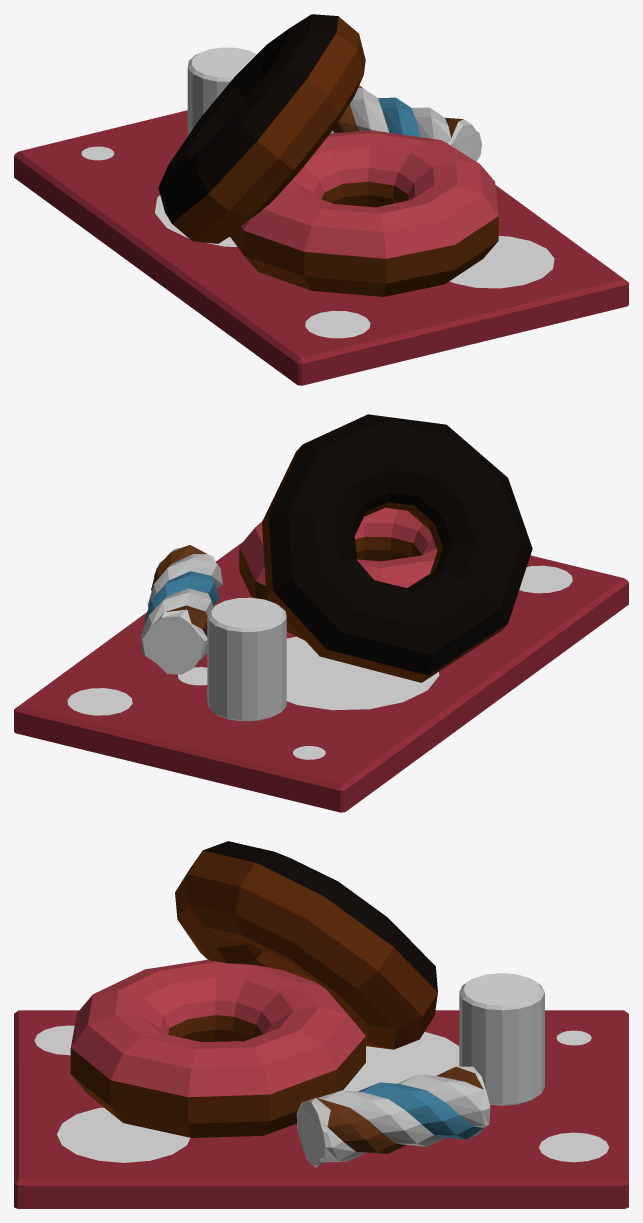
The model's file is W_O_Playground_CandySymbolic_002_L1.fbx.
3 views of the same model, one above another, from view 1: azimuth 30°, elevation 25°; view 2: azimuth 150°, elevation 25°; view 3: azimuth 270°, elevation 25° (orthographic). The views are drawn at different scales.
Visible parts, largest first — view 1: W_O_Playground_CandySymbolic_002_L1; view 2: W_O_Playground_CandySymbolic_002_L1; view 3: W_O_Playground_CandySymbolic_002_L1.
Part boxes in pixels (left/top/right/bottom): W_O_Playground_CandySymbolic_002_L1: left=14, top=14, right=628, bottom=385; W_O_Playground_CandySymbolic_002_L1: left=14, top=414, right=628, bottom=812; W_O_Playground_CandySymbolic_002_L1: left=14, top=841, right=628, bottom=1208.
Bounding box in the file's own units: 2.02 × 1.36 × 3.
